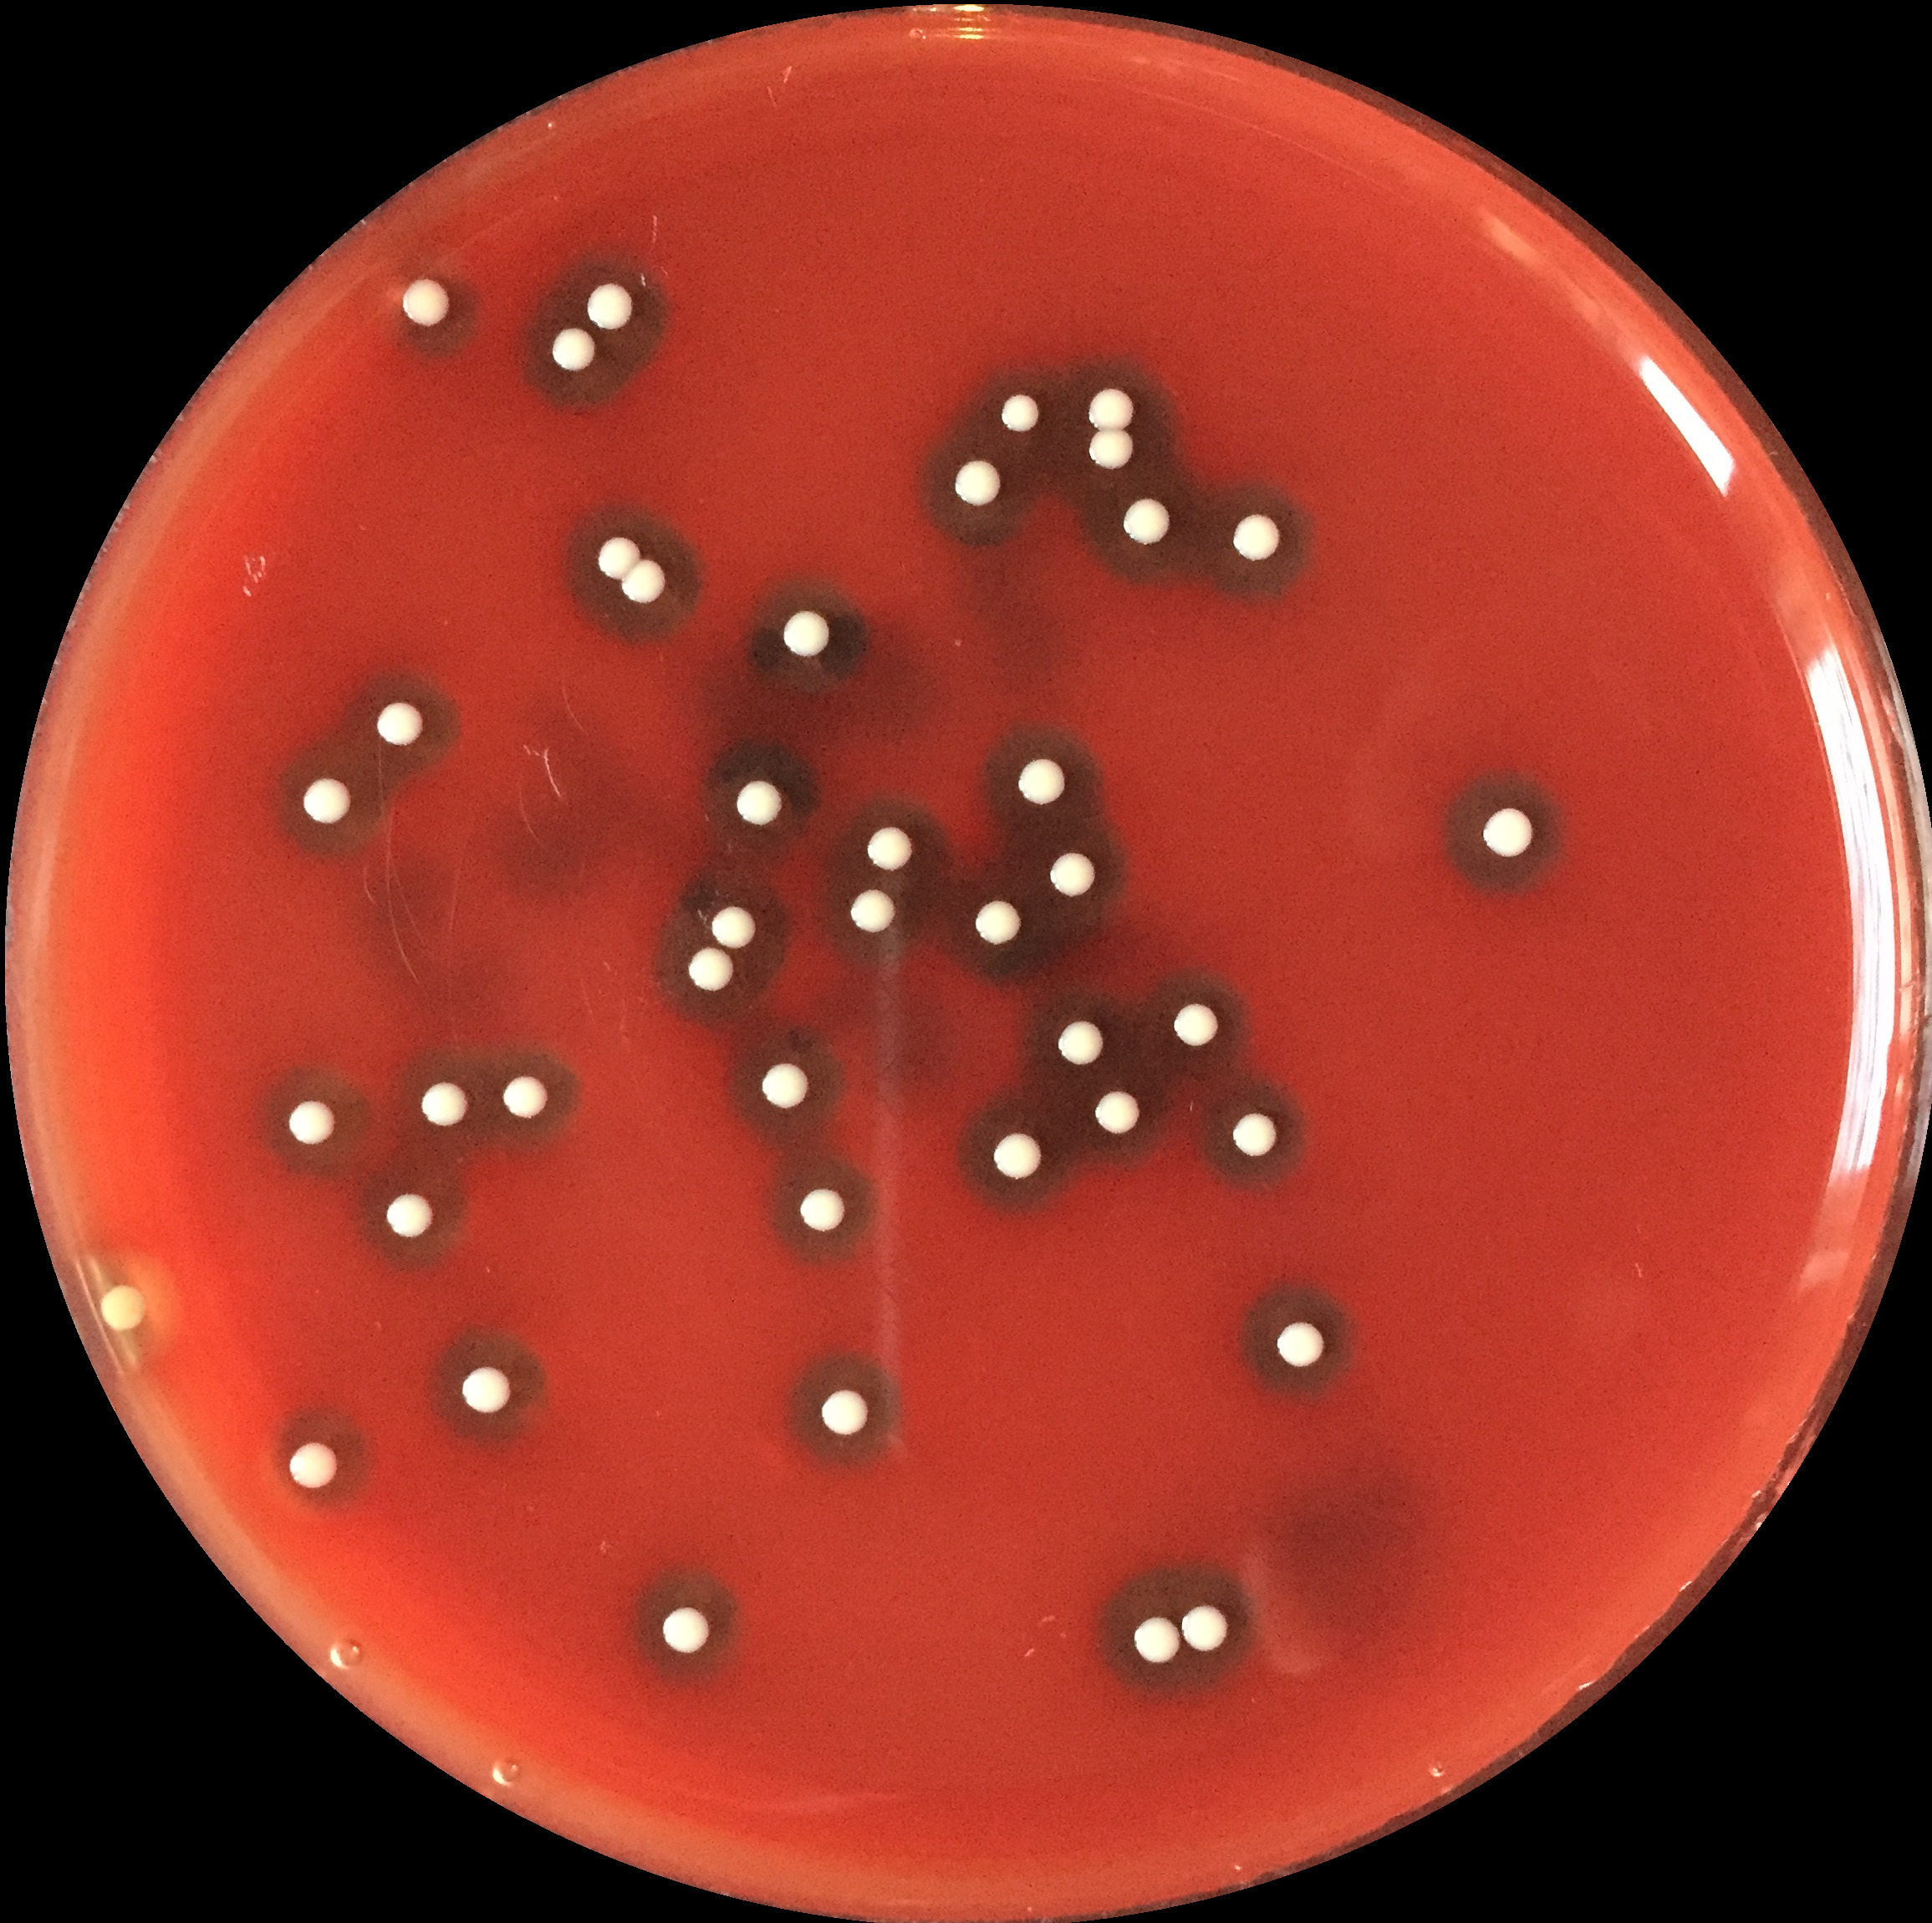sp21: (1474, 798, 1541, 861), (815, 1384, 879, 1444), (278, 1440, 347, 1495), (544, 322, 606, 382), (988, 1127, 1050, 1187), (88, 1277, 153, 1333), (729, 773, 789, 833), (793, 1182, 858, 1236), (1044, 845, 1104, 903), (657, 1602, 717, 1661), (458, 1361, 520, 1418), (963, 895, 1027, 949), (412, 1076, 476, 1131), (1048, 1018, 1113, 1071), (396, 273, 454, 331), (1272, 1314, 1330, 1372), (1118, 490, 1175, 549), (682, 940, 741, 997), (579, 280, 645, 331), (1173, 1601, 1231, 1657), (298, 775, 356, 831), (1127, 1615, 1185, 1669), (777, 608, 837, 660), (1087, 1083, 1147, 1136), (289, 1094, 342, 1153), (756, 1058, 812, 1113), (1166, 1000, 1224, 1053), (1009, 755, 1071, 805), (1226, 507, 1280, 562), (1226, 1104, 1282, 1157), (863, 822, 919, 875), (370, 697, 428, 748), (382, 1192, 440, 1241), (495, 1069, 551, 1118), (703, 903, 763, 949), (949, 456, 1004, 505), (592, 528, 641, 581), (618, 556, 671, 606), (1083, 424, 1139, 468), (845, 886, 898, 932), (1083, 382, 1132, 430), (993, 389, 1043, 433)
